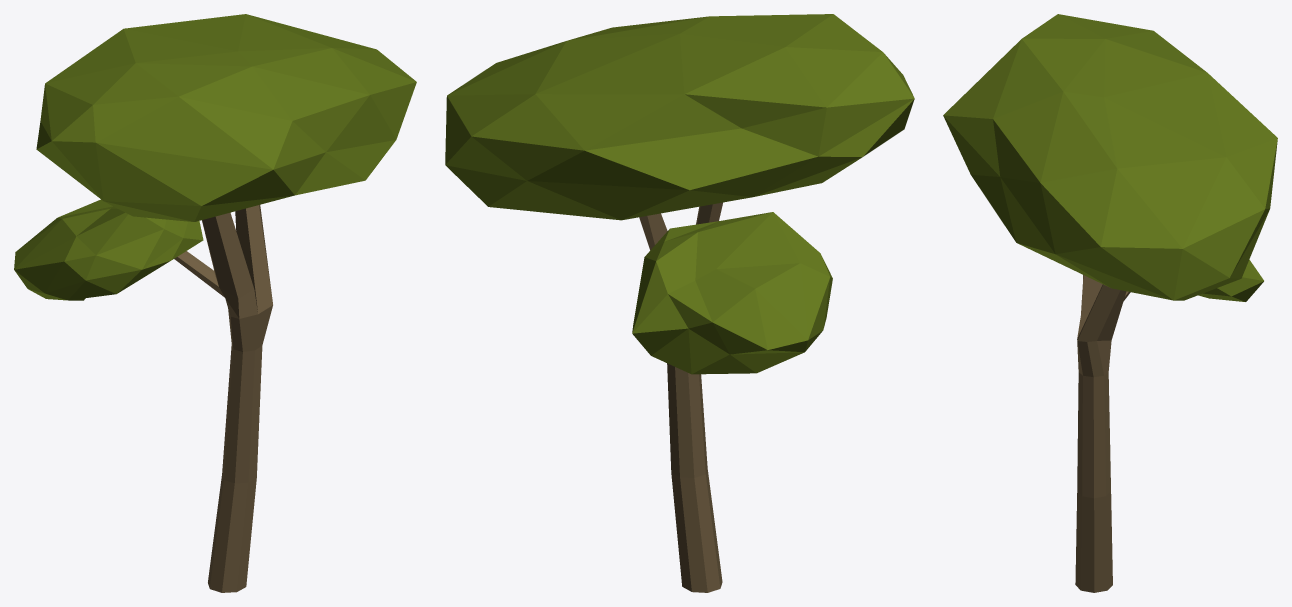
File: roman_tree_pine_3.fbx
The picture shows the model from 3 angles, left to right: view 1: azimuth 30°, elevation 25°; view 2: azimuth 150°, elevation 25°; view 3: azimuth 270°, elevation 25°; orthographic projection. The views are drawn at different scales.
Parts seen in each view (by area): view 1: Cylinder.033; view 2: Cylinder.033; view 3: Cylinder.033.
Part boxes in pixels (x1=…): Cylinder.033: x1=14, y1=14, x2=416, y2=592; Cylinder.033: x1=445, y1=14, x2=914, y2=592; Cylinder.033: x1=943, y1=14, x2=1277, y2=592.
Bounding box in the file's own units: 4.08 × 5.36 × 3.21.
